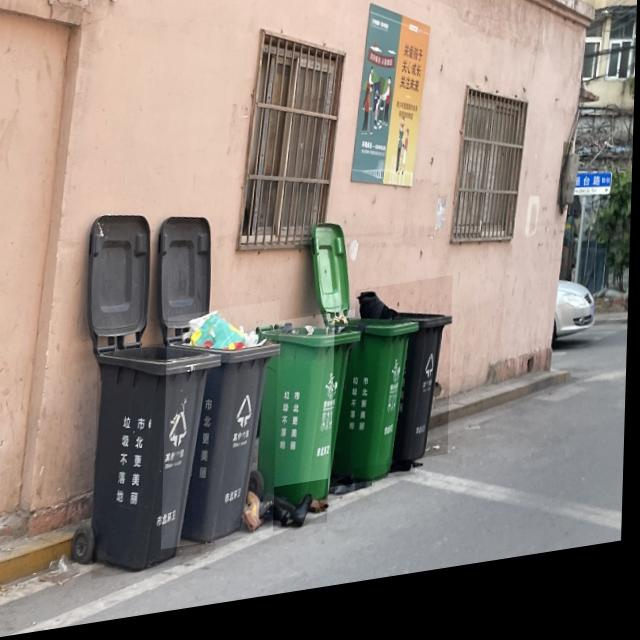garbage: (245, 490, 331, 544)
garbage_bin: (95, 342, 223, 583), (255, 320, 363, 519), (333, 321, 422, 499)
overflow: (164, 309, 282, 555), (354, 290, 455, 481)
